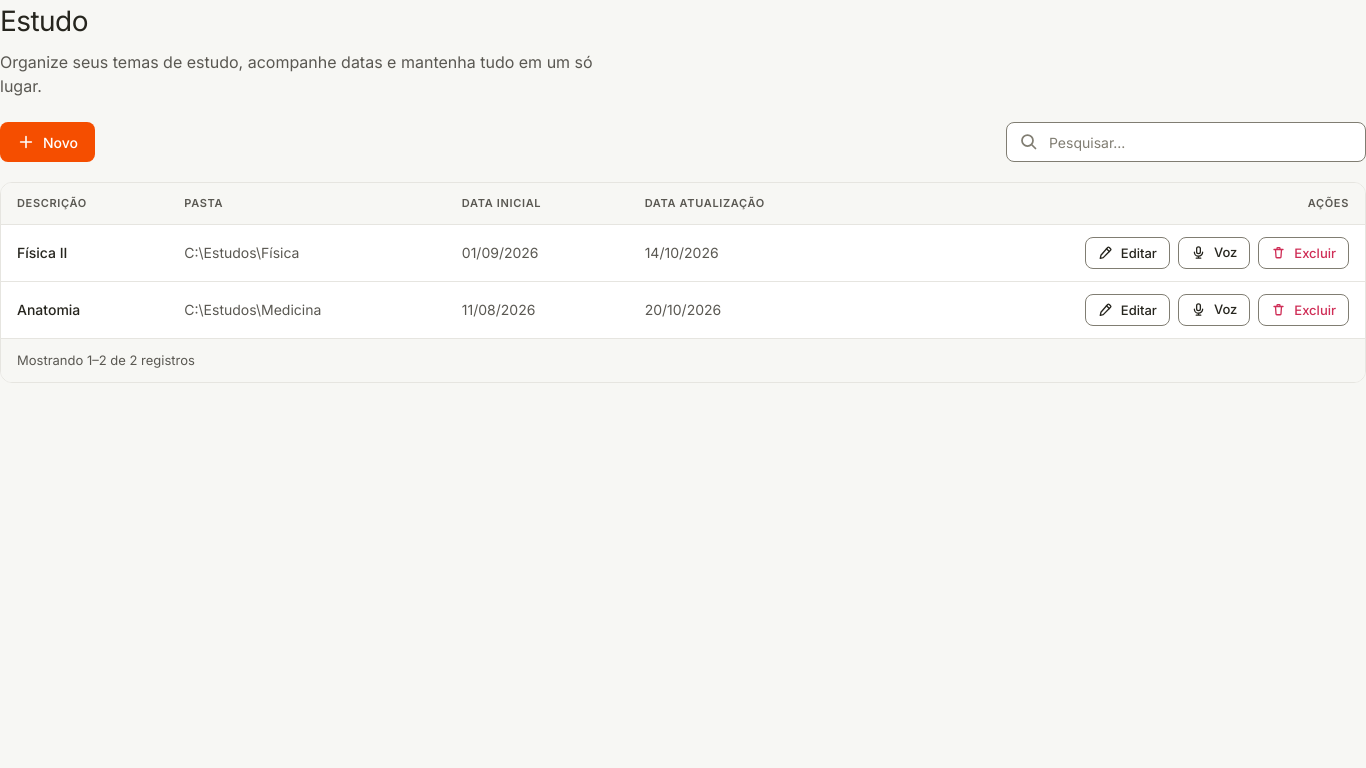
StudyView: campo Pasta do modal › Procurar… › abre o seletor na pasta do campo; selecionar preenche o campo, mantém a Descrição e volta o foco
Click the button with aria-label "Editar registro" at [1127, 252], box x1=1085 y1=236 x2=1170 y2=268
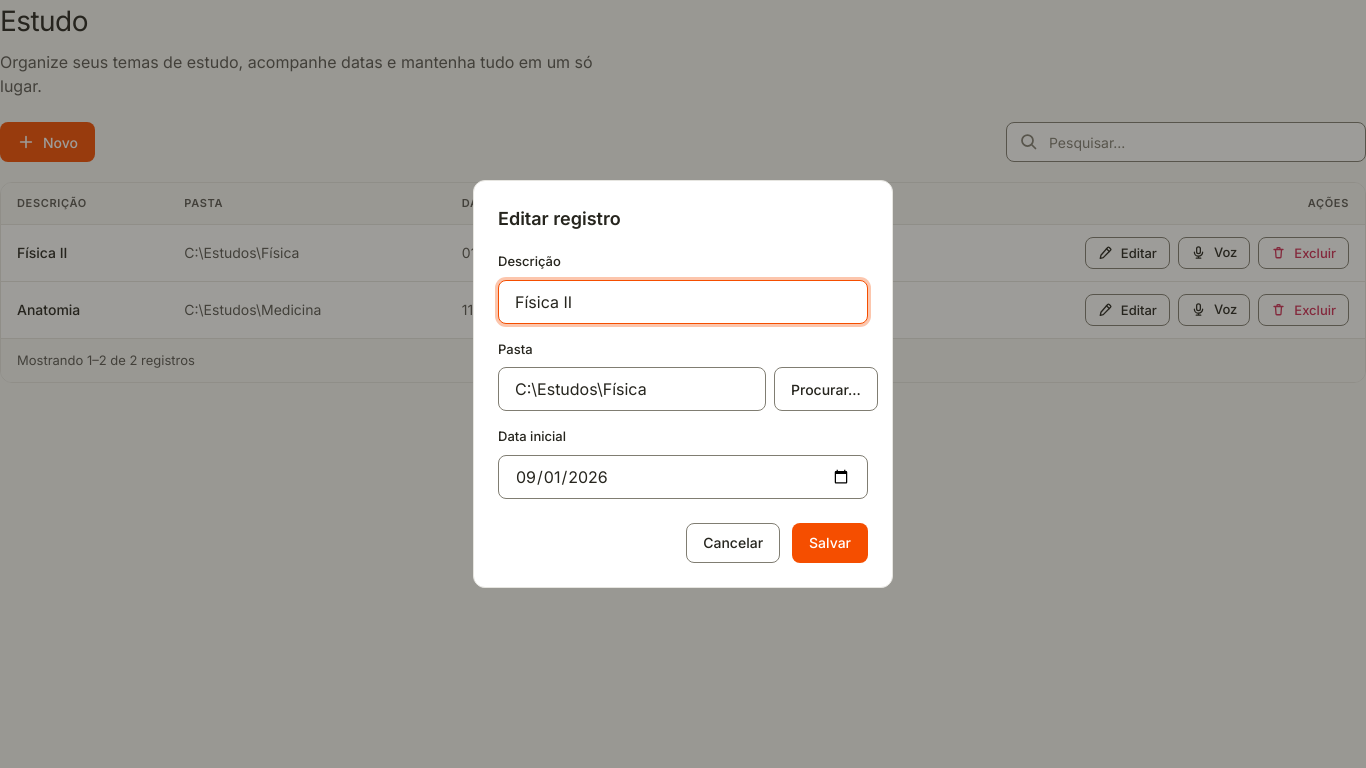
Replace the text in the field labelled "Descrição" with "Física III" at [683, 302], box x1=498 y1=280 x2=868 y2=324
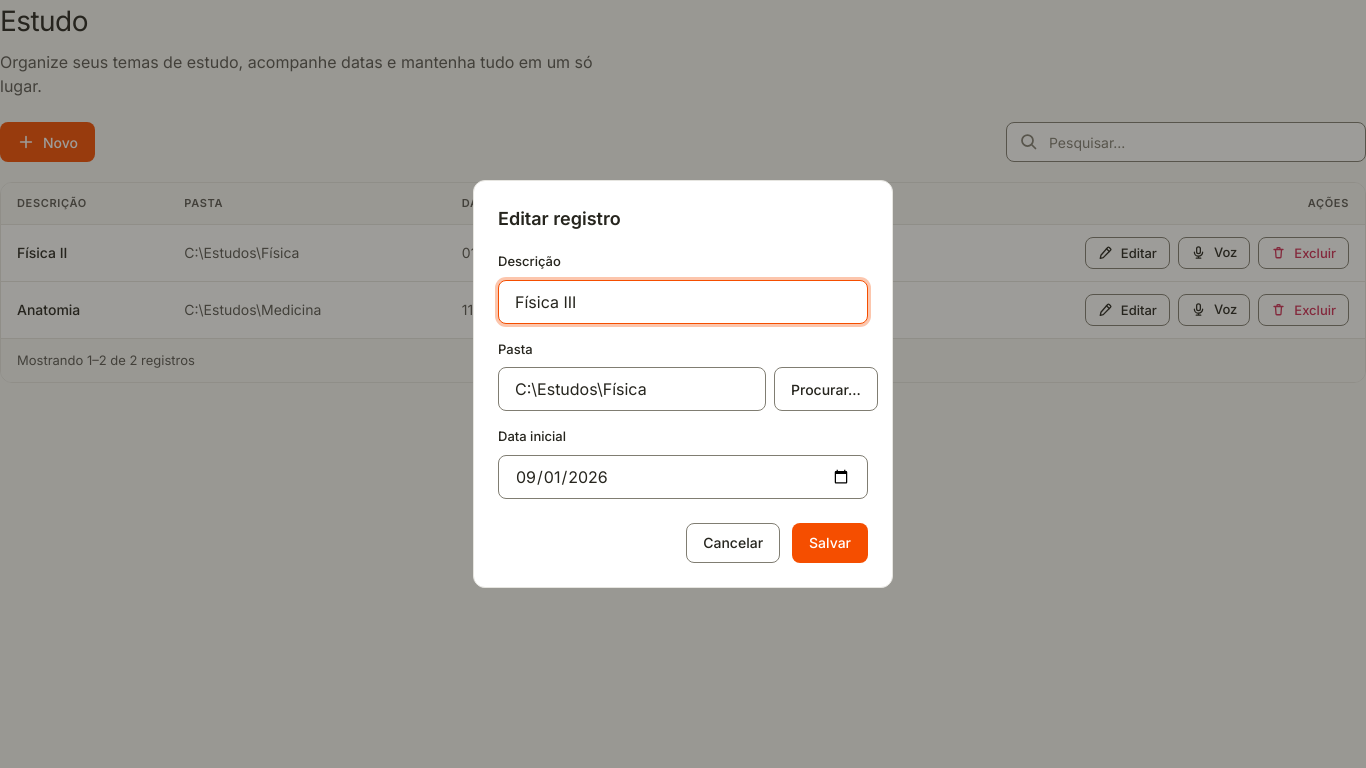
Click the button "Procurar…" at [826, 389], box x1=774 y1=367 x2=878 y2=411
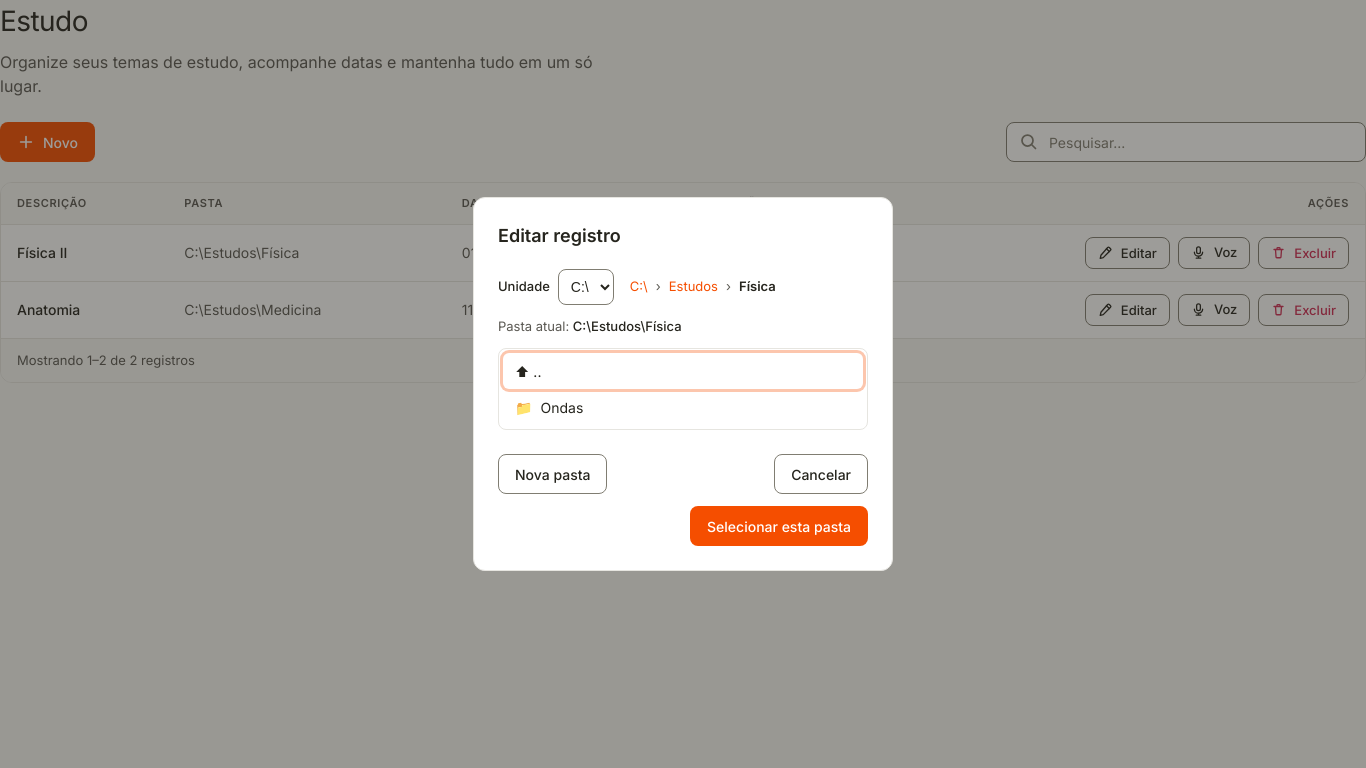
Click the button "📁 Ondas" at [562, 407], box x1=503 y1=389 x2=863 y2=425
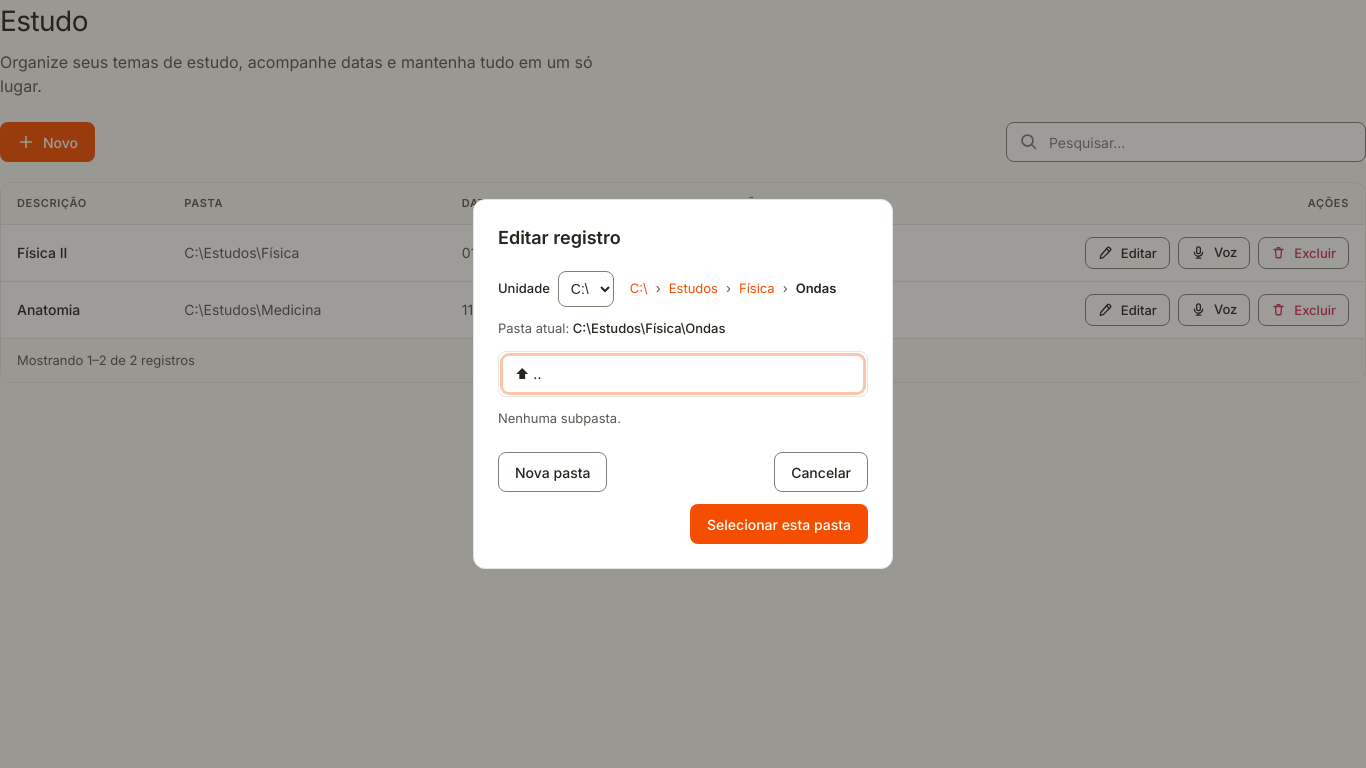
Now the text "C:\\Estudos\\Física\\Ondas" is shown, box x1=573 y1=320 x2=725 y2=336
Click the button "Selecionar esta pasta" at [779, 524], box x1=690 y1=504 x2=868 y2=544
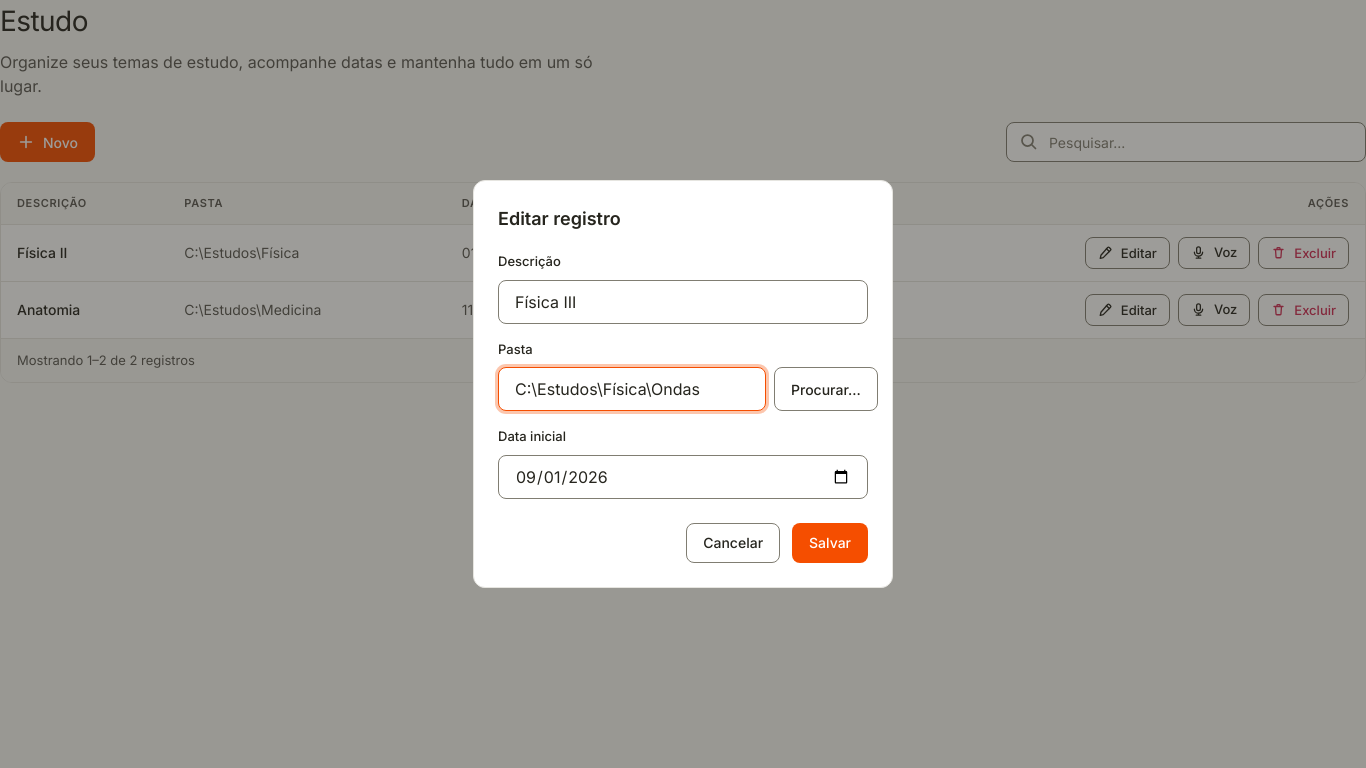
Now the field labelled "Pasta" holds "C:\\Estudos\\Física\\Ondas", box x1=498 y1=367 x2=766 y2=411
Now the field labelled "Descrição" holds "Física III", box x1=498 y1=280 x2=868 y2=324
